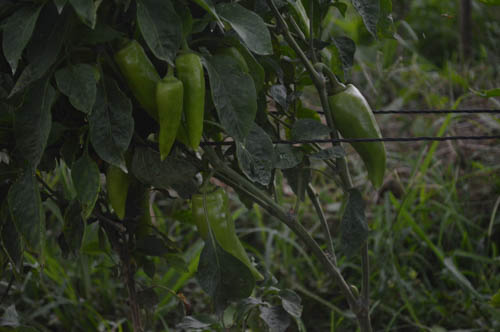ChiliPepper: (118, 44, 184, 141), (193, 186, 260, 276), (335, 89, 386, 185), (177, 51, 207, 151), (151, 82, 183, 159), (102, 167, 123, 220)
